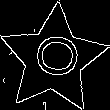O_W: (27, 35, 80, 83)
